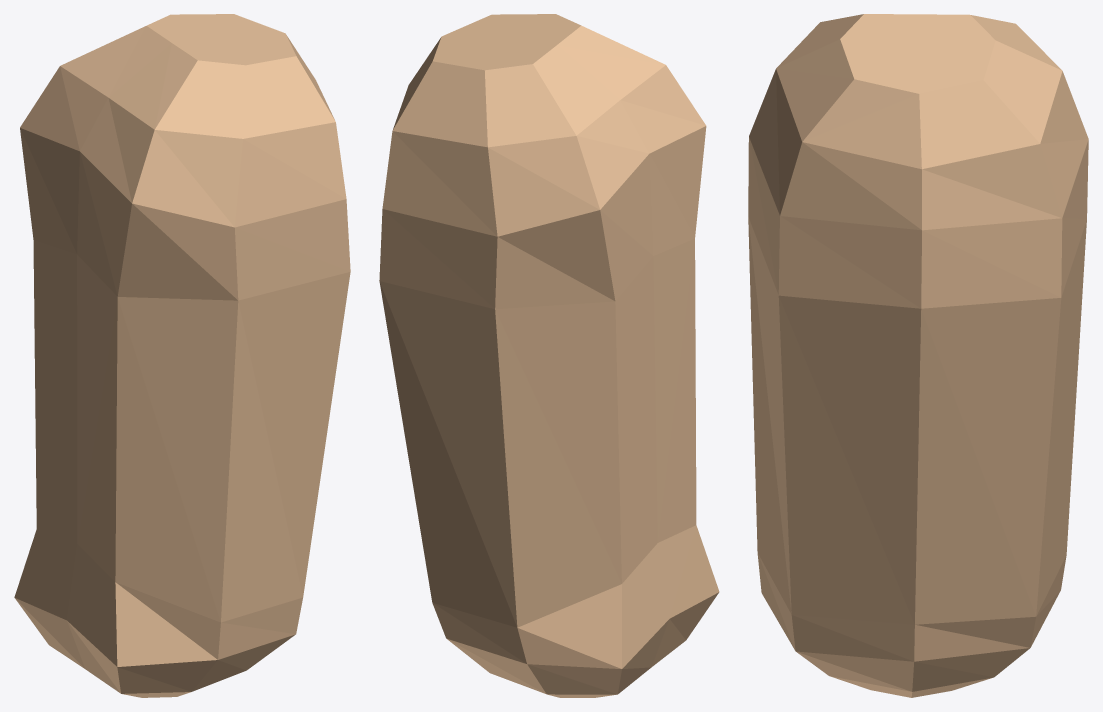
Rendered from RFing11_mesh.dae.
3 views of the same model, side by side, from view 1: azimuth 30°, elevation 25°; view 2: azimuth 150°, elevation 25°; view 3: azimuth 270°, elevation 25° (orthographic). The views are drawn at different scales.
Visible parts, largest first — view 1: RFing11; view 2: RFing11; view 3: RFing11.
Boxes of the visible parts, x1,y1,x2,y2 form: RFing11: (14,14,350,697); RFing11: (379,14,719,697); RFing11: (748,14,1088,697).
Size of the model in its own units: 0.0174 by 0.0389 by 0.0178.
